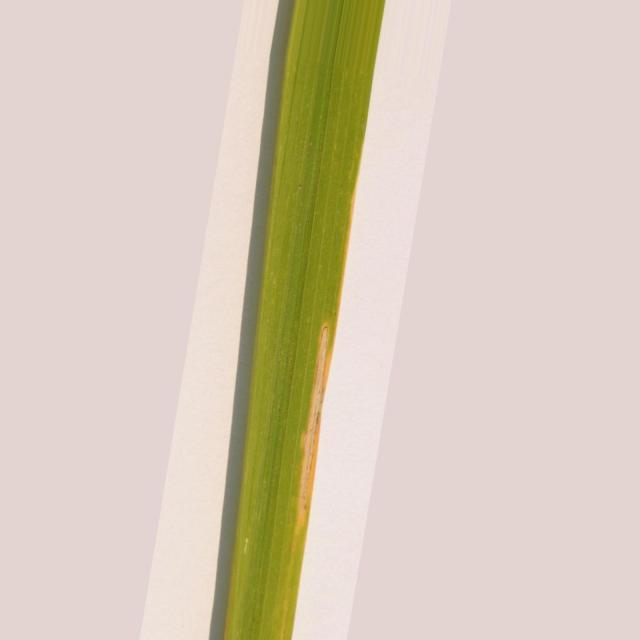Bacterial_Leaf_Blight: (294, 322, 330, 552)
